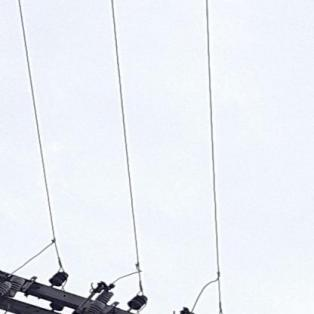Poste: (0, 259, 19, 314)
